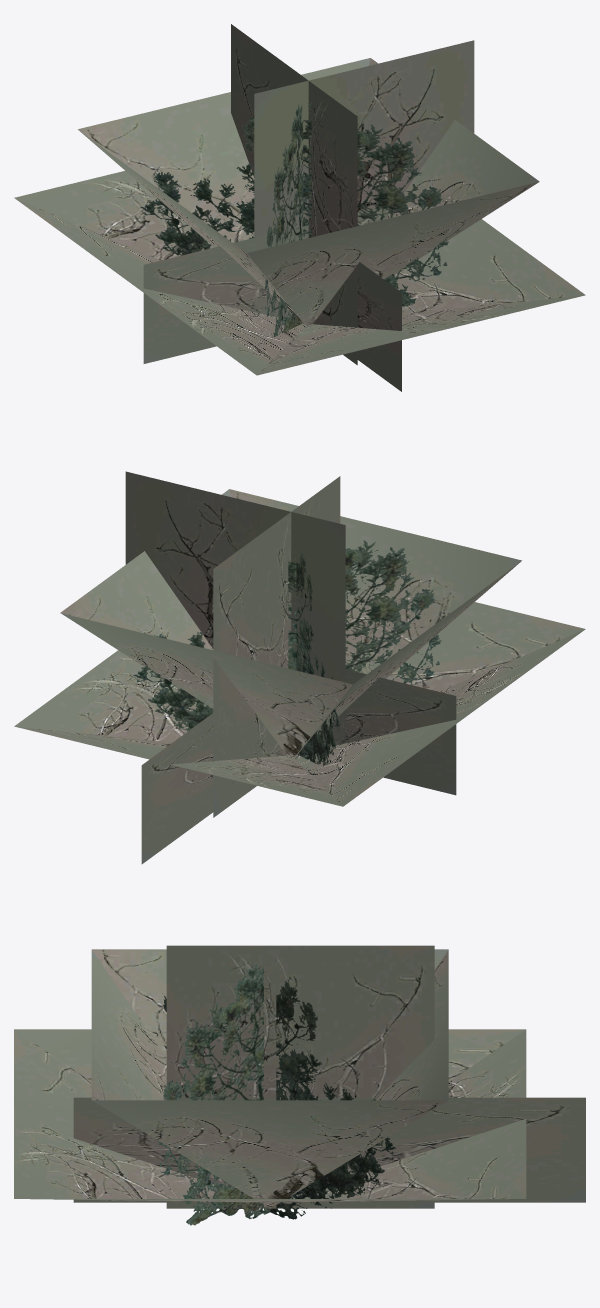
The model's file is shrb_torreypinebush_a1_l1.fbx.
The picture shows the model from 3 angles, top to bottom: view 1: azimuth 30°, elevation 25°; view 2: azimuth 150°, elevation 25°; view 3: azimuth 270°, elevation 25°; orthographic projection. The views are drawn at different scales.
Parts seen in each view (by area): view 1: mesh_node; view 2: mesh_node; view 3: mesh_node.
Part boxes in pixels (x1,y1,x2,y2): mesh_node: [14, 24, 585, 391]; mesh_node: [14, 471, 585, 864]; mesh_node: [14, 945, 585, 1225].
Bounding box in the file's own units: 2.96 × 2.16 × 4.1.
